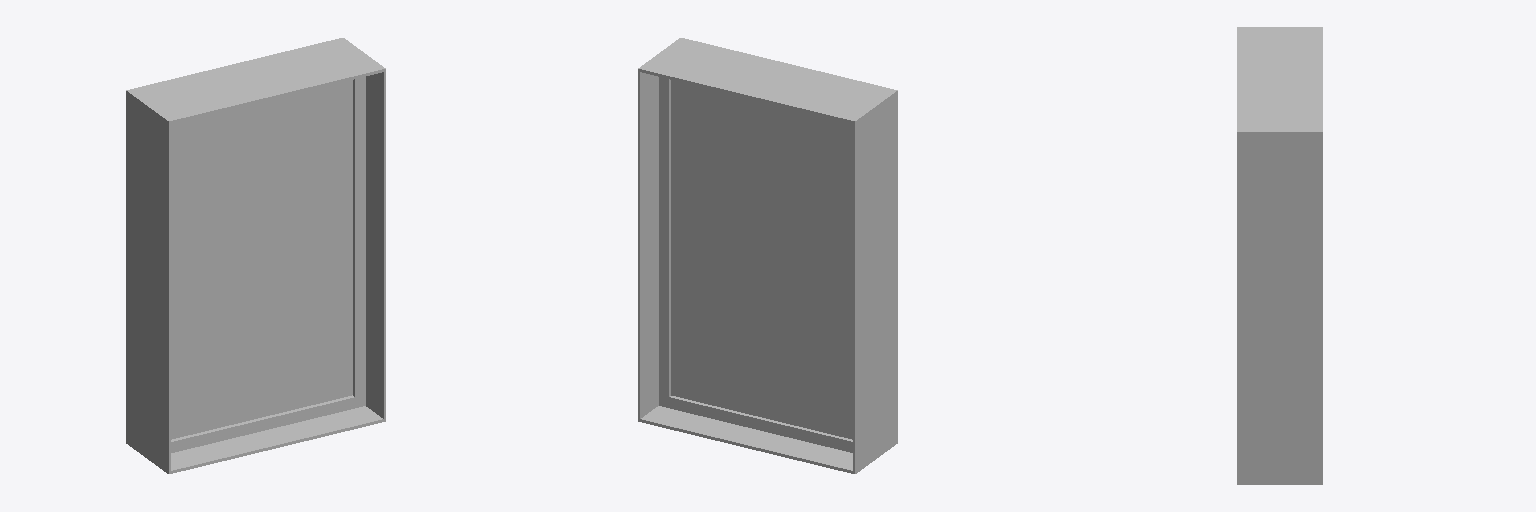
Rendered from fixedWindow85x123.obj.
3 views of the same model, side by side, from view 1: azimuth 30°, elevation 25°; view 2: azimuth 150°, elevation 25°; view 3: azimuth 270°, elevation 25° (orthographic).
Parts seen in each view (by area): view 1: sweethome3d_window_pane, Tour_Fenetre, Fenetre_1; view 2: sweethome3d_window_pane, Tour_Fenetre, Fenetre_1; view 3: Tour_Fenetre.
Part boxes in pixels (left/top/right/bottom): sweethome3d_window_pane: left=171, top=80, right=352, bottom=439; Tour_Fenetre: left=126, top=38, right=385, bottom=473; Fenetre_1: left=171, top=77, right=365, bottom=452; sweethome3d_window_pane: left=671, top=80, right=852, bottom=439; Tour_Fenetre: left=638, top=38, right=897, bottom=473; Fenetre_1: left=659, top=77, right=852, bottom=452; Tour_Fenetre: left=1237, top=27, right=1322, bottom=484.
Size of the model in its own units: 0.7937 by 1.23 by 0.27.